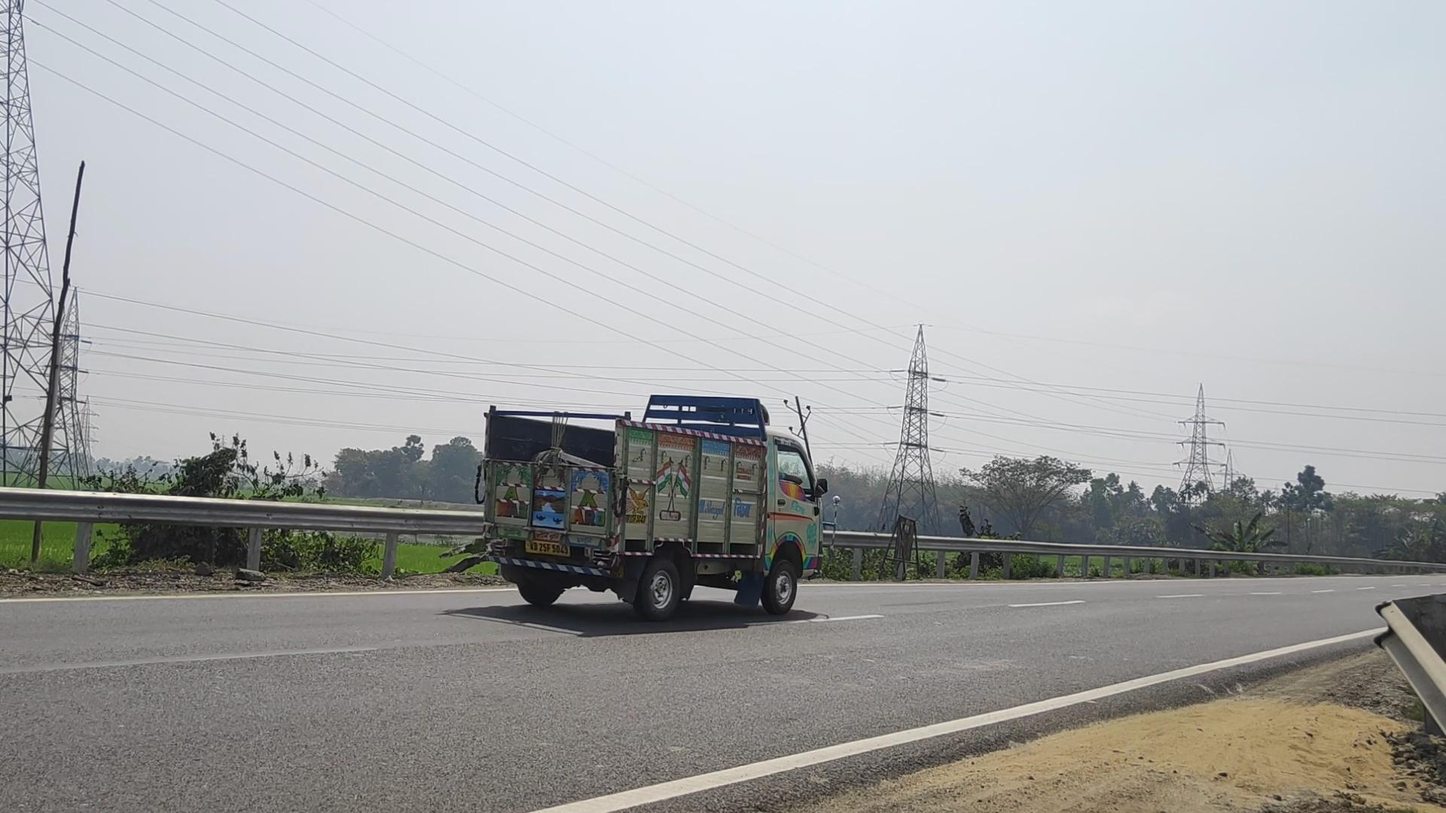van: (479, 394, 840, 620)
